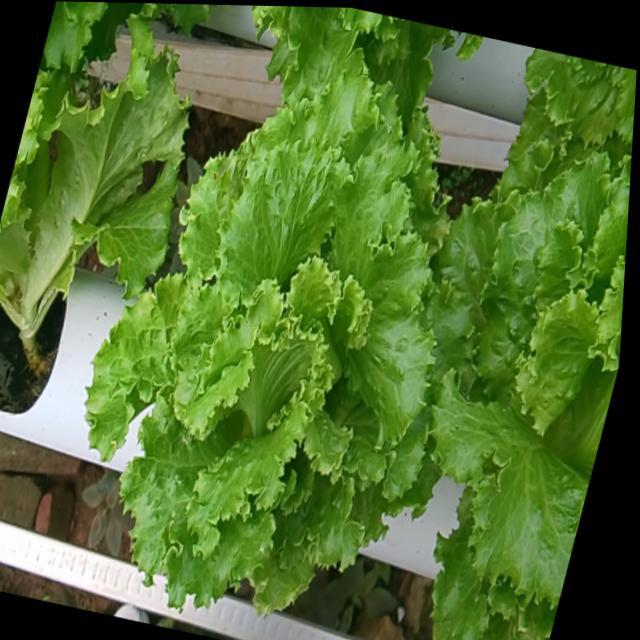Mature: (89, 87, 452, 625), (433, 164, 629, 621)
